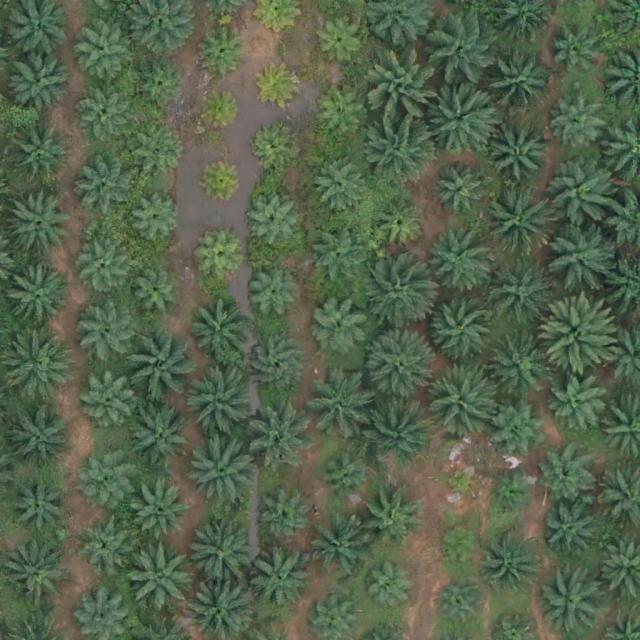Healthy: (543, 296, 621, 375), (482, 187, 553, 258), (544, 220, 614, 291), (485, 257, 555, 328), (426, 365, 496, 436), (362, 330, 433, 400), (362, 394, 432, 465), (244, 397, 314, 468), (182, 516, 252, 587), (184, 435, 254, 506), (186, 370, 256, 441), (122, 331, 192, 402), (124, 543, 194, 614), (2, 265, 72, 336), (2, 334, 73, 404), (482, 51, 552, 122), (427, 82, 497, 153), (367, 115, 437, 186), (371, 56, 441, 127), (548, 161, 618, 232), (422, 230, 492, 300), (427, 292, 497, 362), (361, 262, 431, 332), (430, 17, 500, 87), (540, 570, 603, 633), (487, 333, 550, 396), (245, 335, 308, 398), (127, 404, 190, 467), (489, 123, 552, 186), (9, 49, 72, 112), (75, 155, 138, 218), (489, 396, 551, 459), (359, 489, 421, 552), (305, 519, 367, 582), (309, 293, 372, 355), (305, 377, 367, 440), (249, 549, 311, 612), (188, 299, 250, 362), (78, 303, 140, 366), (9, 190, 71, 253), (9, 408, 71, 471), (5, 548, 67, 611), (9, 123, 71, 186), (483, 530, 545, 593), (539, 451, 594, 506), (540, 505, 595, 560), (435, 577, 490, 632), (372, 199, 427, 254), (318, 450, 373, 505), (309, 230, 364, 285), (244, 194, 299, 249), (258, 493, 313, 548), (135, 488, 190, 543), (74, 516, 129, 571), (73, 239, 128, 294), (13, 478, 68, 533), (133, 57, 188, 112), (133, 131, 188, 186), (550, 33, 605, 88), (553, 98, 608, 153), (434, 164, 489, 219), (311, 12, 366, 67), (314, 89, 369, 144), (313, 157, 368, 212), (76, 29, 131, 84), (77, 87, 132, 142), (550, 376, 604, 431), (245, 267, 299, 322), (130, 192, 184, 247), (128, 269, 182, 324), (80, 446, 134, 501), (82, 374, 136, 429)
Small: (362, 566, 409, 614), (488, 471, 535, 519), (437, 525, 484, 573), (201, 27, 248, 74), (248, 123, 295, 170), (442, 463, 481, 503)
Yellow: (196, 235, 243, 283), (199, 156, 246, 204), (196, 87, 243, 134), (257, 63, 304, 110)
